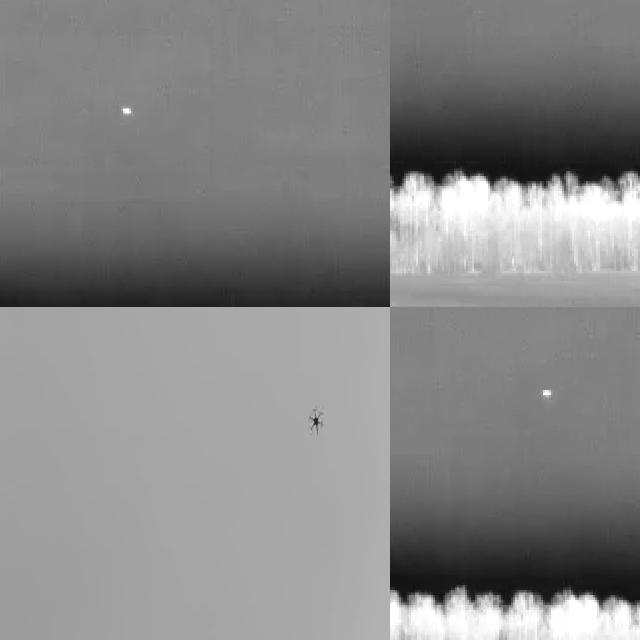1: (529, 379, 559, 409), (110, 100, 136, 127)
drone: (305, 404, 328, 439)
